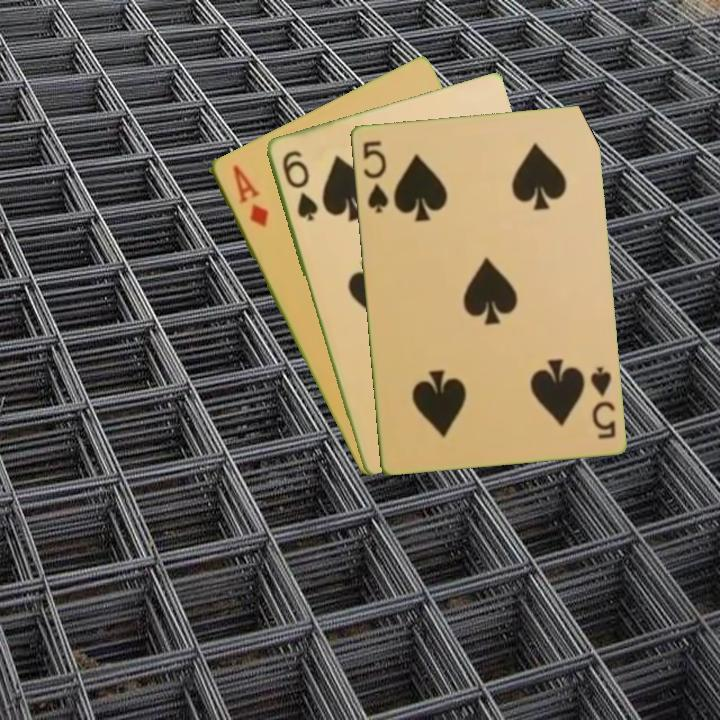5s: (359, 136, 391, 216), (586, 363, 618, 442)
6s: (278, 146, 321, 224)
Ad: (228, 160, 271, 230)
